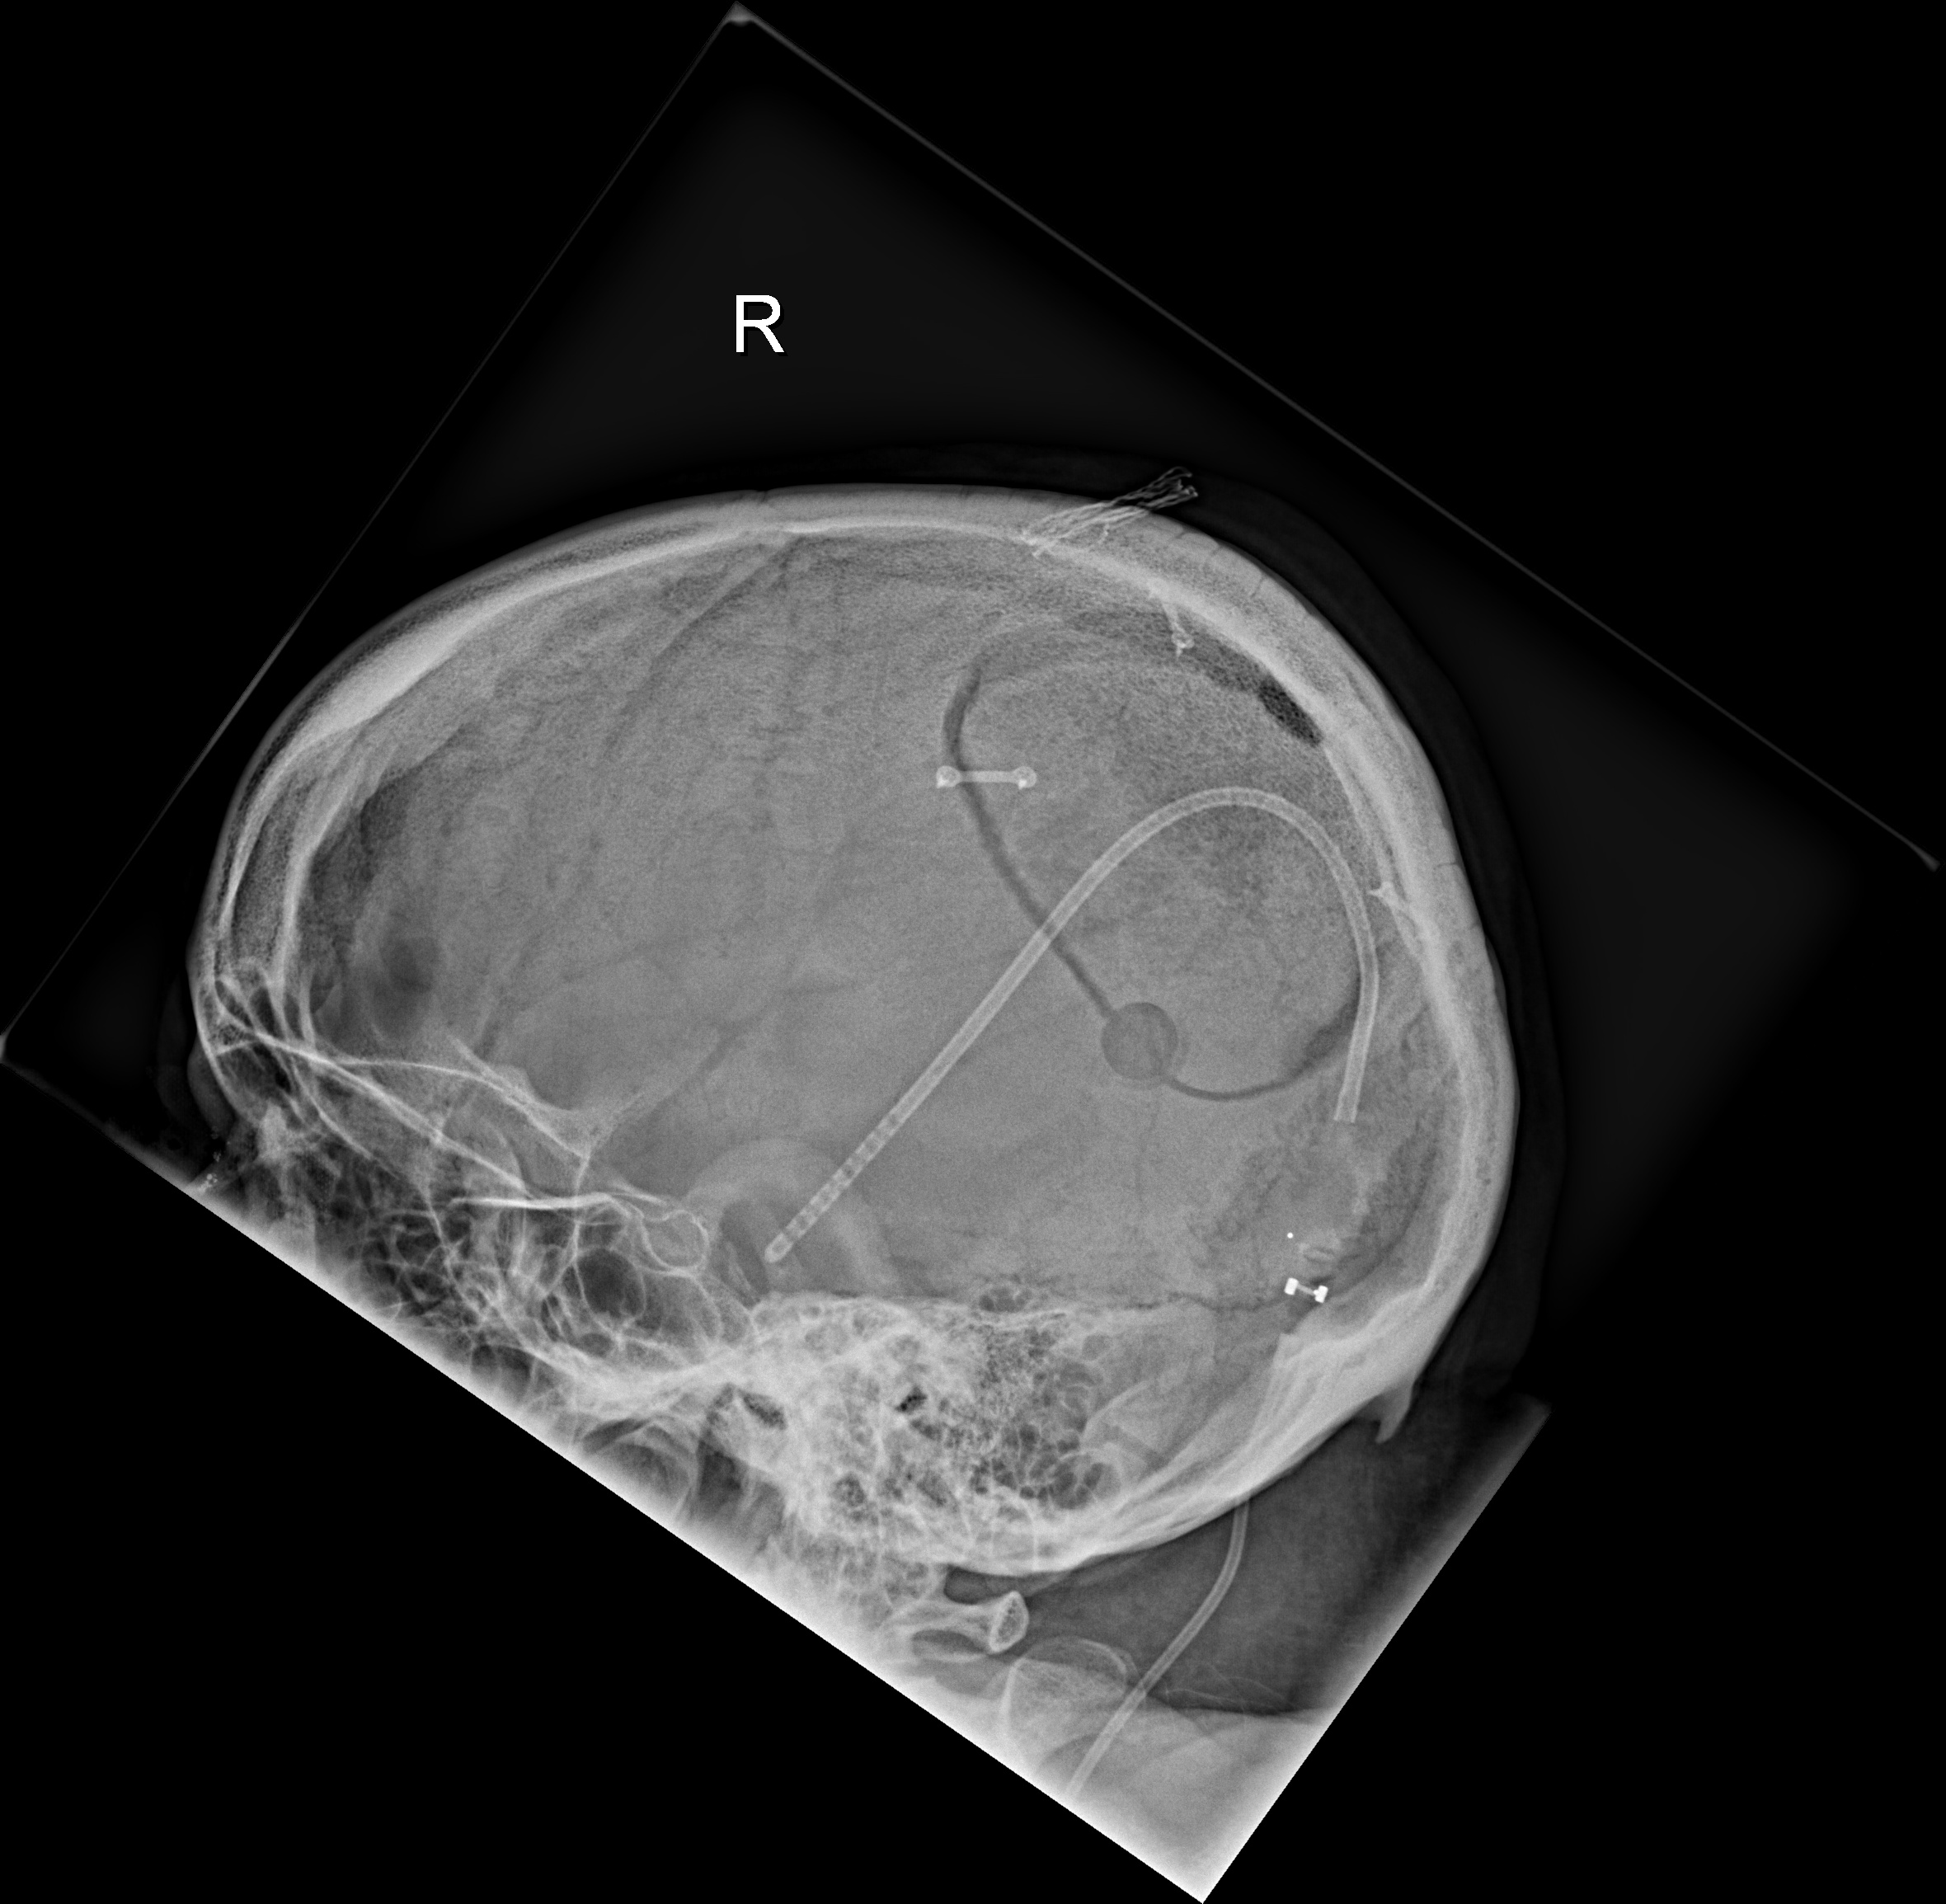Codman Certas: (1269, 1210, 1343, 1332)
